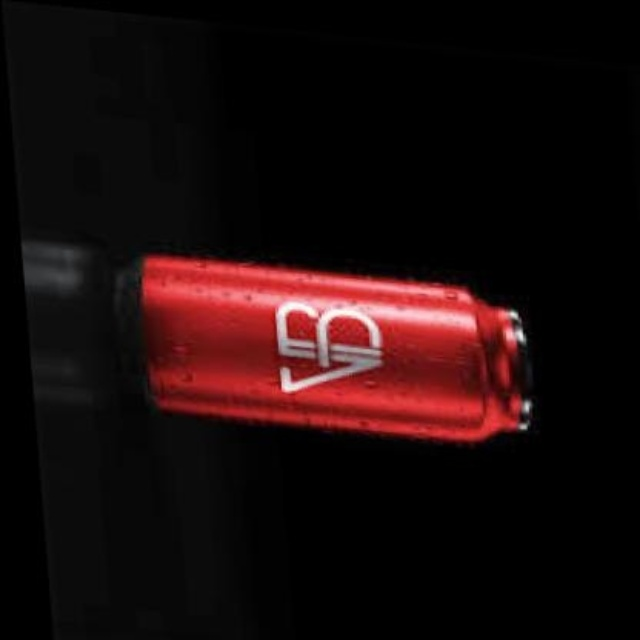trash: (142, 254, 531, 440)
